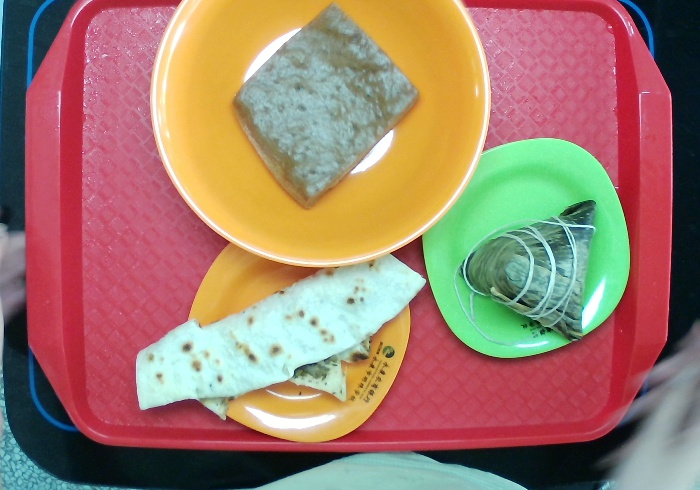YKMZ-Ju_Se_Fang_Die: (190, 244, 411, 443)
YKMZ-Ju_Se_Tang_Wan: (147, 3, 492, 262)
YKMZ-Lv_Se_Fang_Die: (420, 138, 631, 363)
